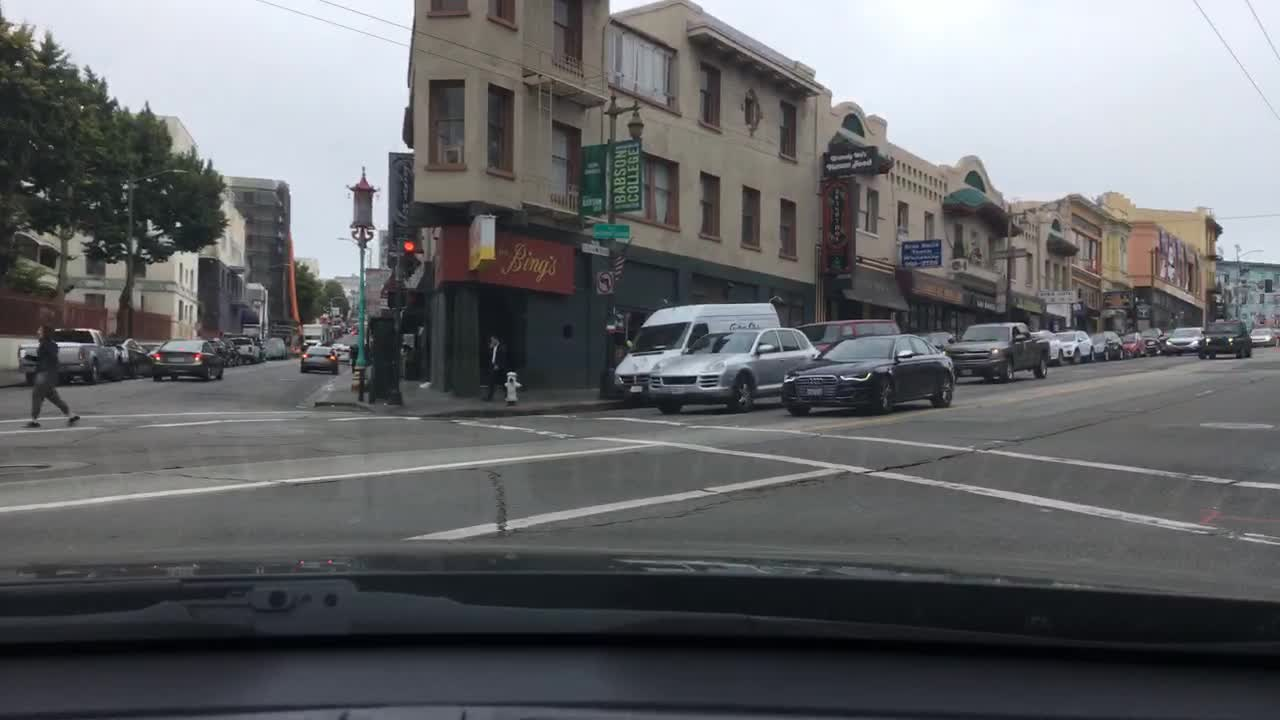car: (647, 326, 823, 413), (779, 333, 952, 409), (147, 339, 222, 381), (1200, 321, 1253, 358), (108, 335, 147, 376), (299, 346, 336, 374), (1061, 331, 1095, 361), (1167, 326, 1204, 351), (1038, 331, 1063, 365), (1095, 333, 1125, 359), (920, 331, 955, 351), (234, 336, 258, 363), (1144, 326, 1165, 351), (212, 341, 232, 365), (248, 336, 267, 358), (1126, 334, 1144, 355), (1250, 328, 1275, 343), (264, 340, 286, 356), (225, 341, 240, 364), (335, 341, 350, 361), (329, 328, 336, 339)
person: (17, 326, 81, 429), (482, 333, 507, 401)
traffic light: (403, 239, 415, 277)
traffic sign: (592, 222, 628, 239), (597, 269, 615, 293), (581, 243, 611, 255)
truck: (616, 301, 779, 411), (17, 326, 122, 386), (948, 324, 1053, 384), (801, 318, 903, 355), (301, 325, 329, 349)
